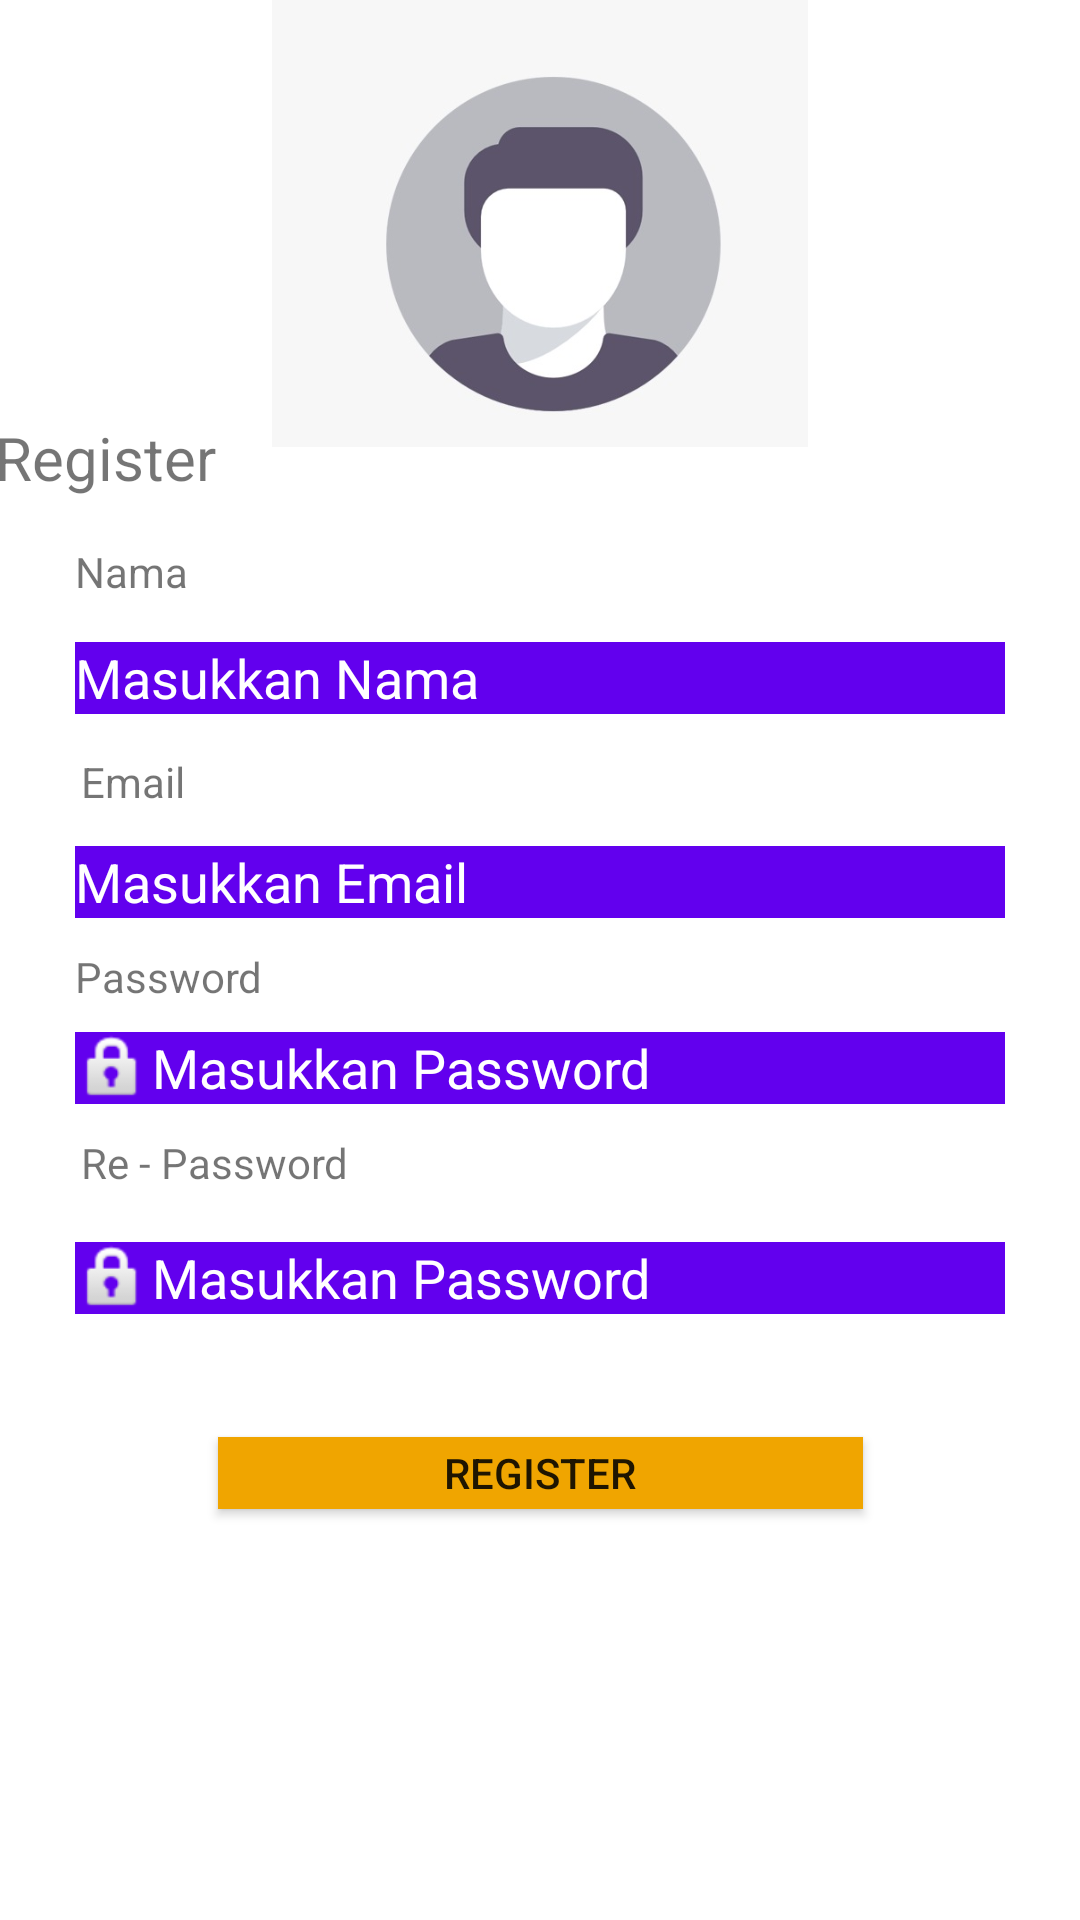

Point at icon controls on the screen. Image size 1080 × 1920, points as (x,y).
guest: (553,244)
